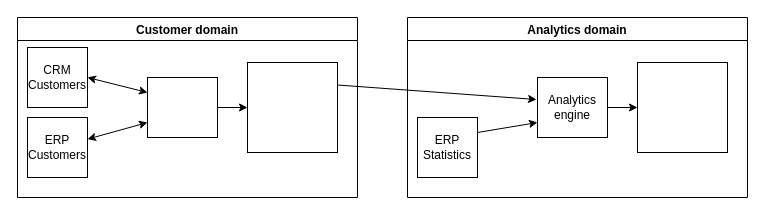
This 765x215 diagram has some shape labels left out. Each missing label, with the centre of its shape:
"Customers (Data product)" belongs at pixel 292 107.
"Insights (Data product)" belongs at pixel 682 107.
"Sesam" belongs at pixel 182 107.
